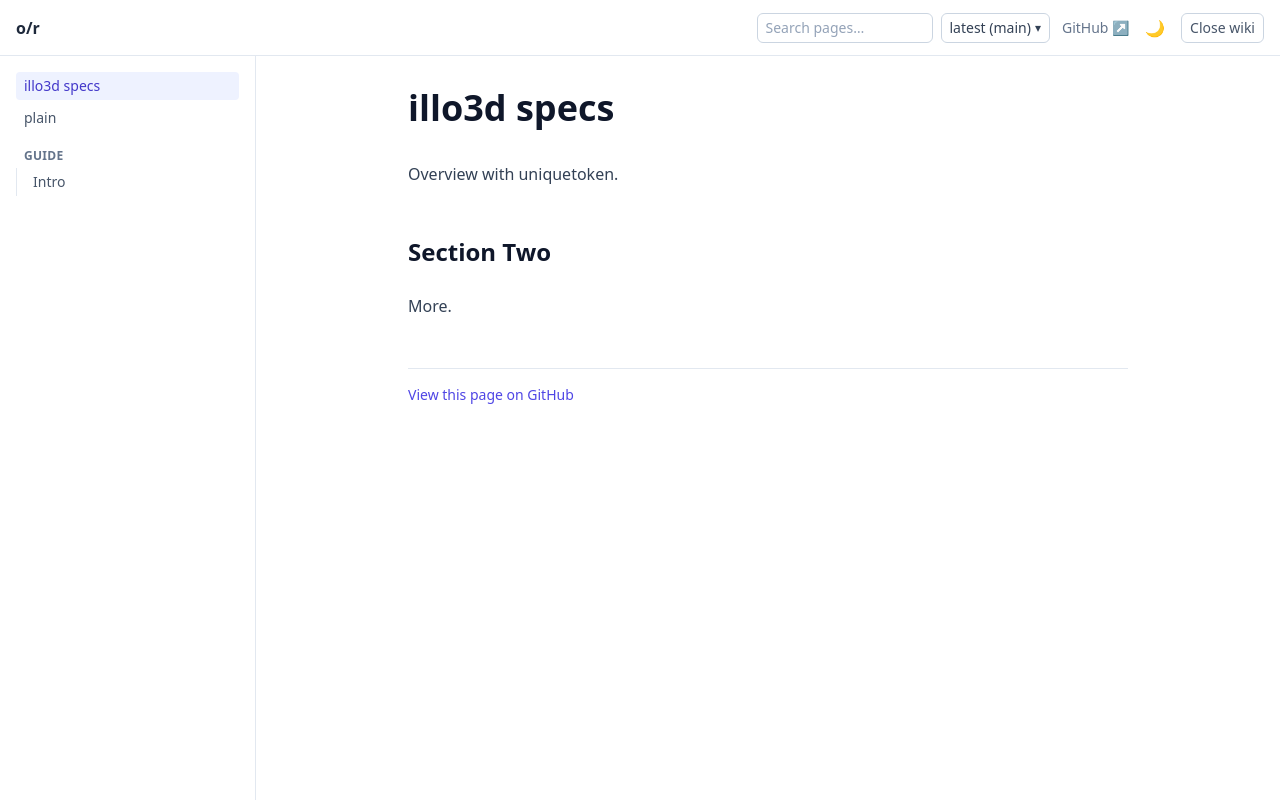
Test: viewing a repository › excludes draft directories from the sidebar and search
Type "supersecretword" into the search field labelled "Search pages" at (844, 28), box x1=756 y1=12 x2=932 y2=42
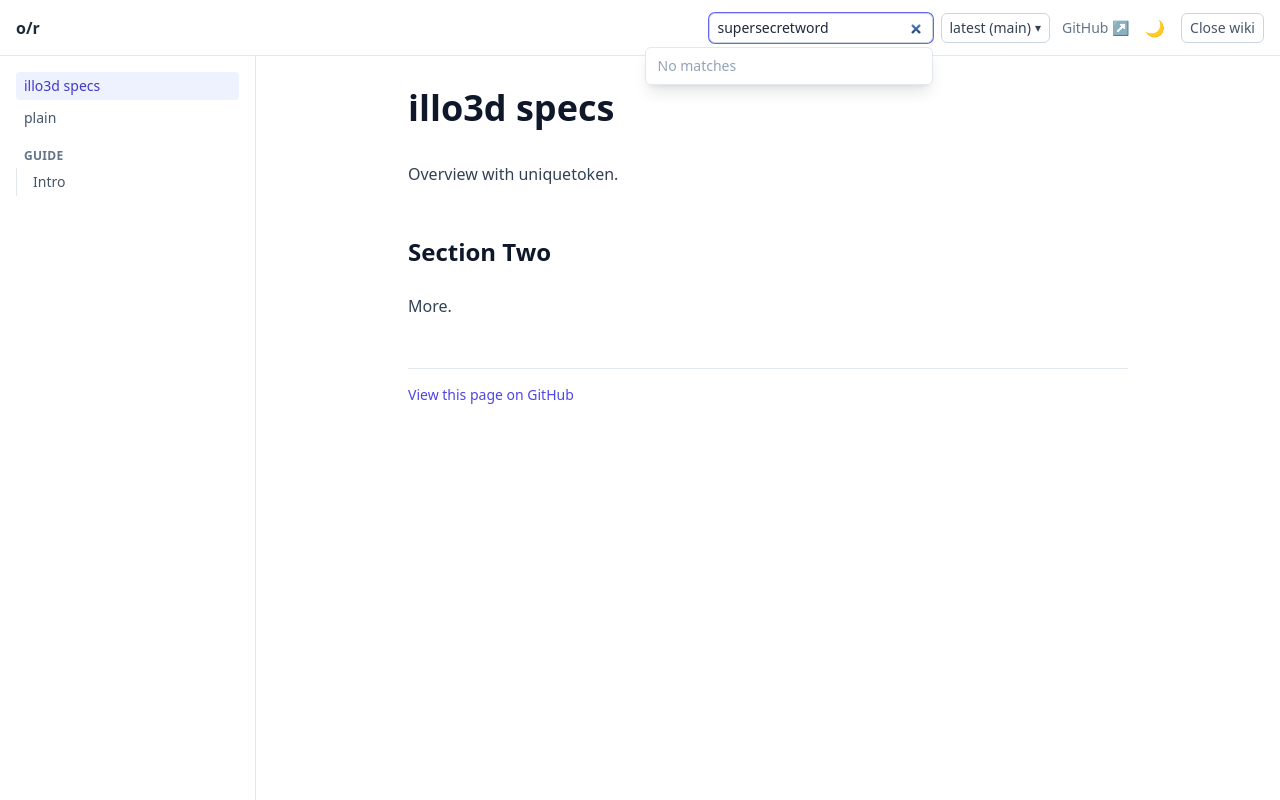
expect the text "No matches" is shown: met, box x1=658 y1=56 x2=736 y2=74
